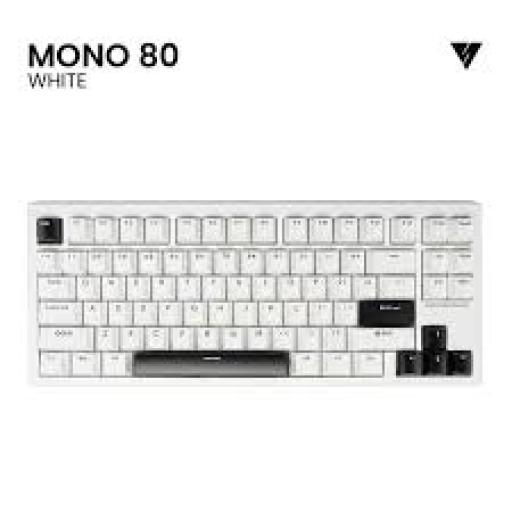KEYBOARD-2: (27, 203, 478, 380)
